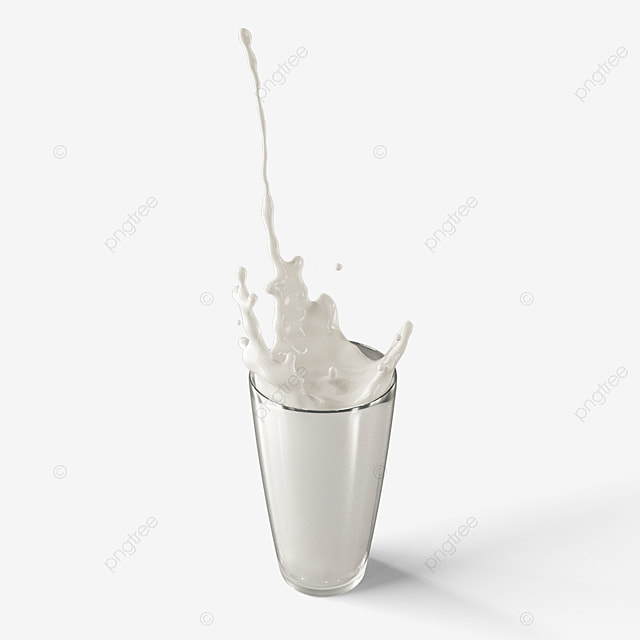produk_susu: (289, 334, 372, 575)
